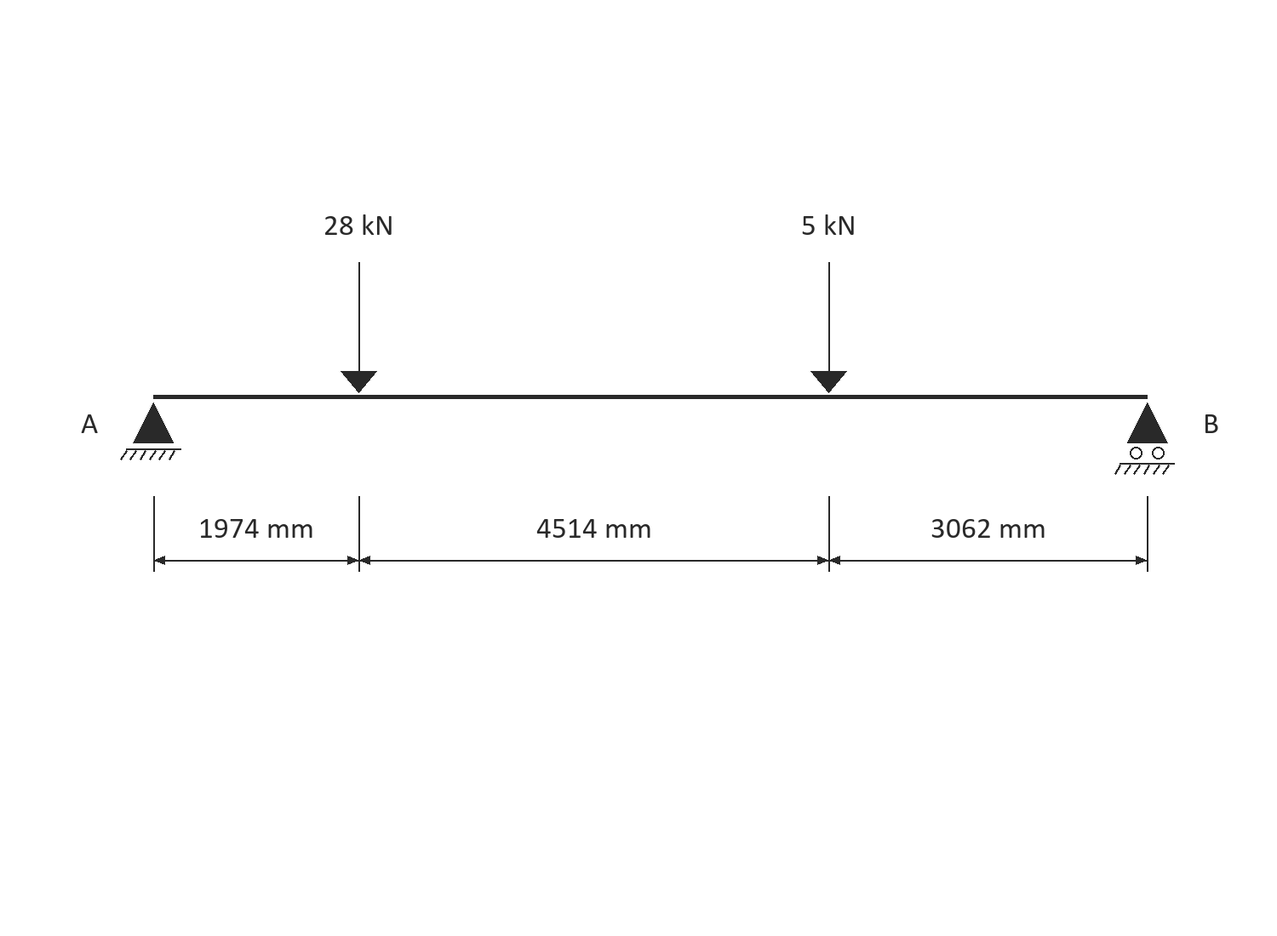pin_support: (120, 402, 181, 460)
point_load: (810, 262, 847, 393), (341, 262, 377, 393)
roller_support: (1114, 402, 1175, 475)
